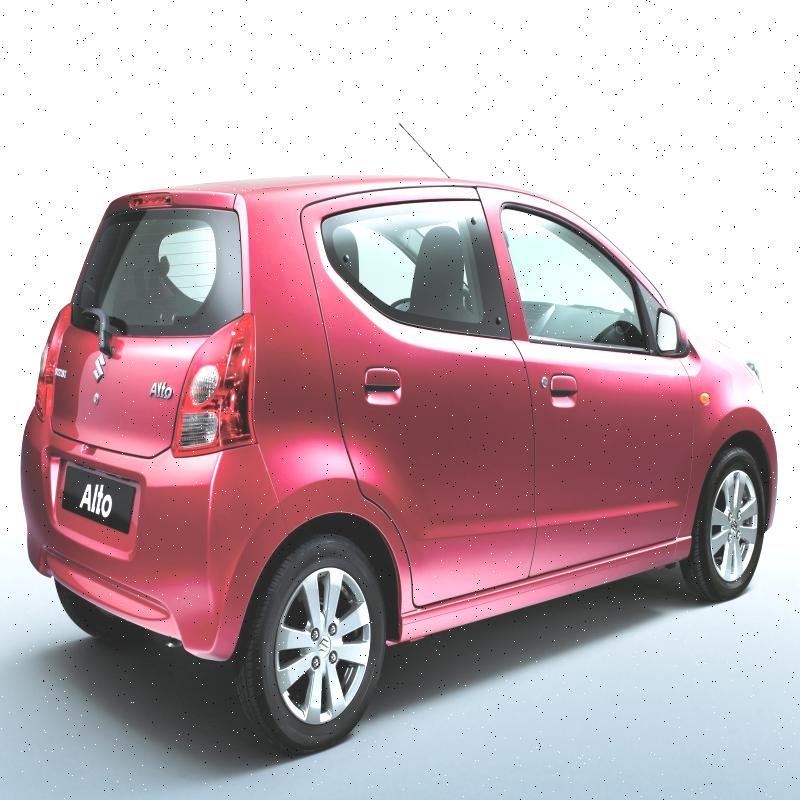car: (22, 160, 766, 718)
